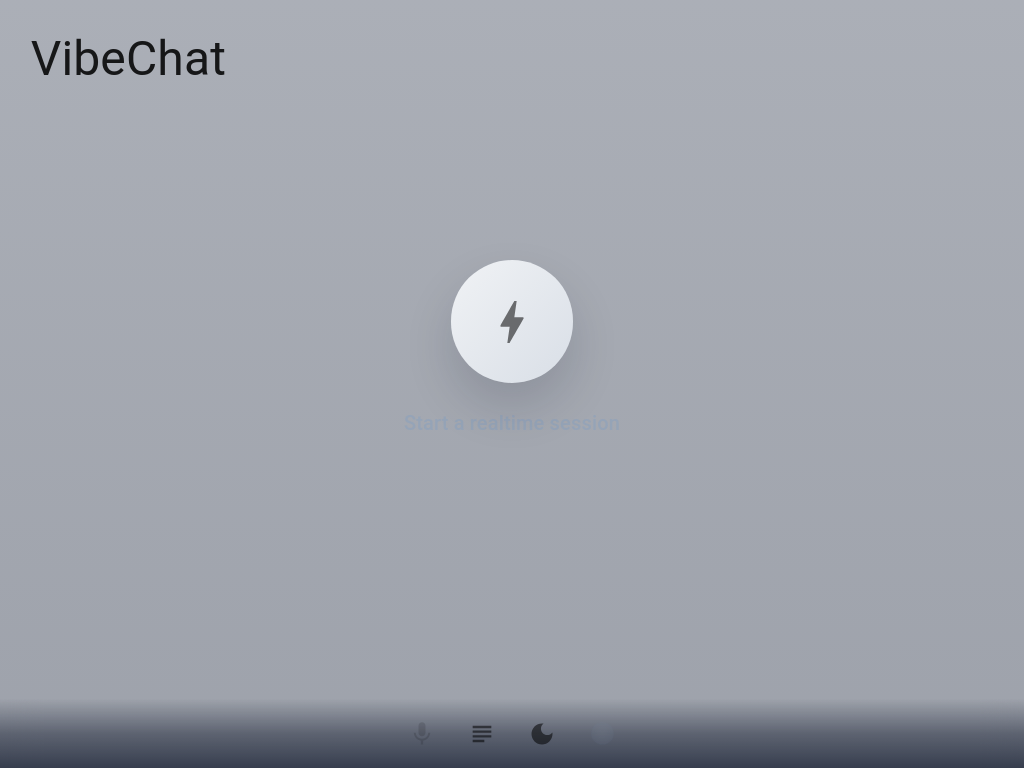
Test: UI streamlining viewport and dimming behaviour › toggles dimming only when the session is disconnected
The width and height of the screenshot is (1024, 768).
Click the button named "start voice session" at (512, 322), box x1=451 y1=260 x2=574 y2=383
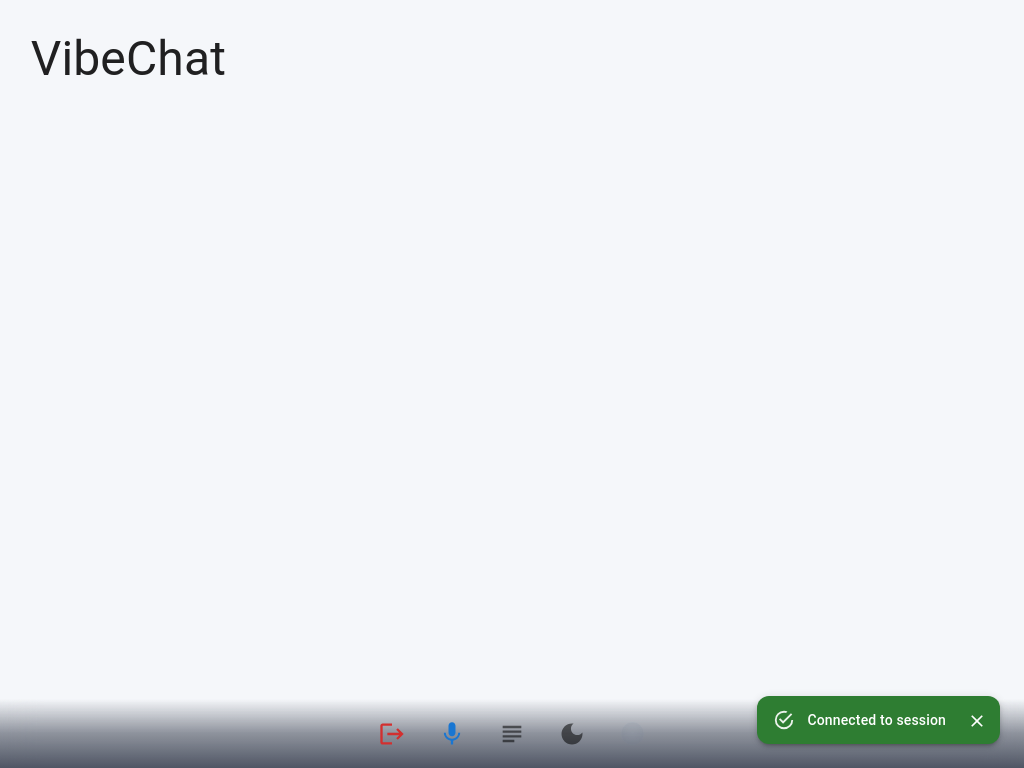
Expected: the button named "disconnect session" is shown
Click the button named "disconnect session" at (392, 734), box x1=370 y1=712 x2=414 y2=756
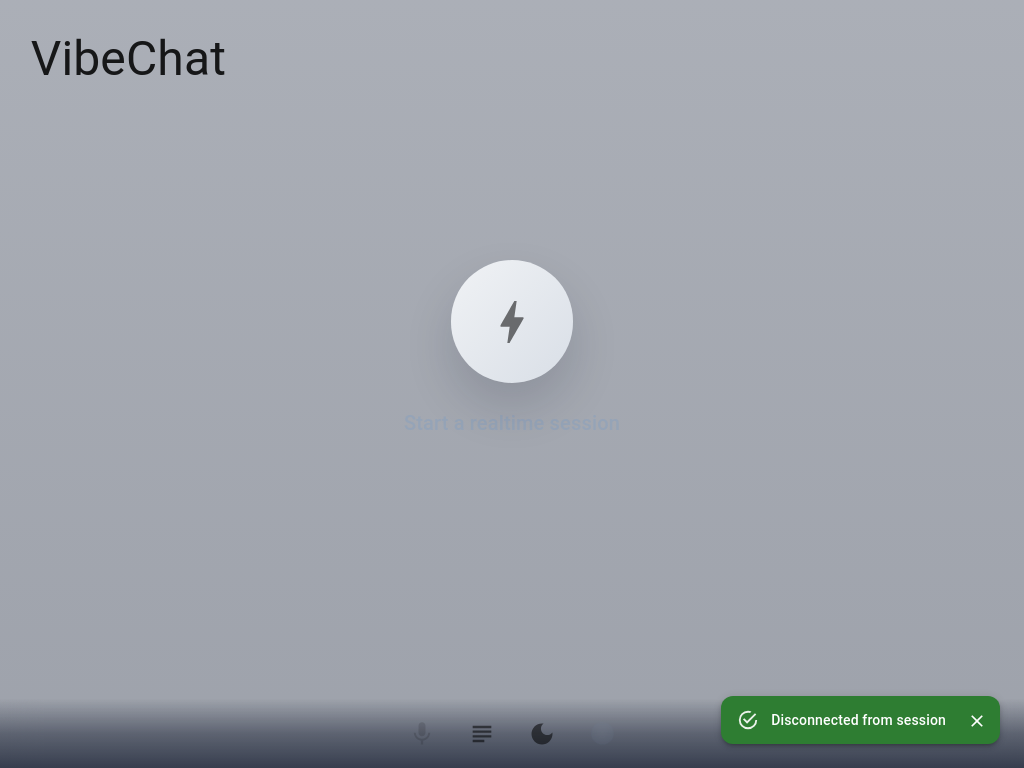
Expected: the button named "start voice session" is shown, x1=451 y1=260 x2=574 y2=383
